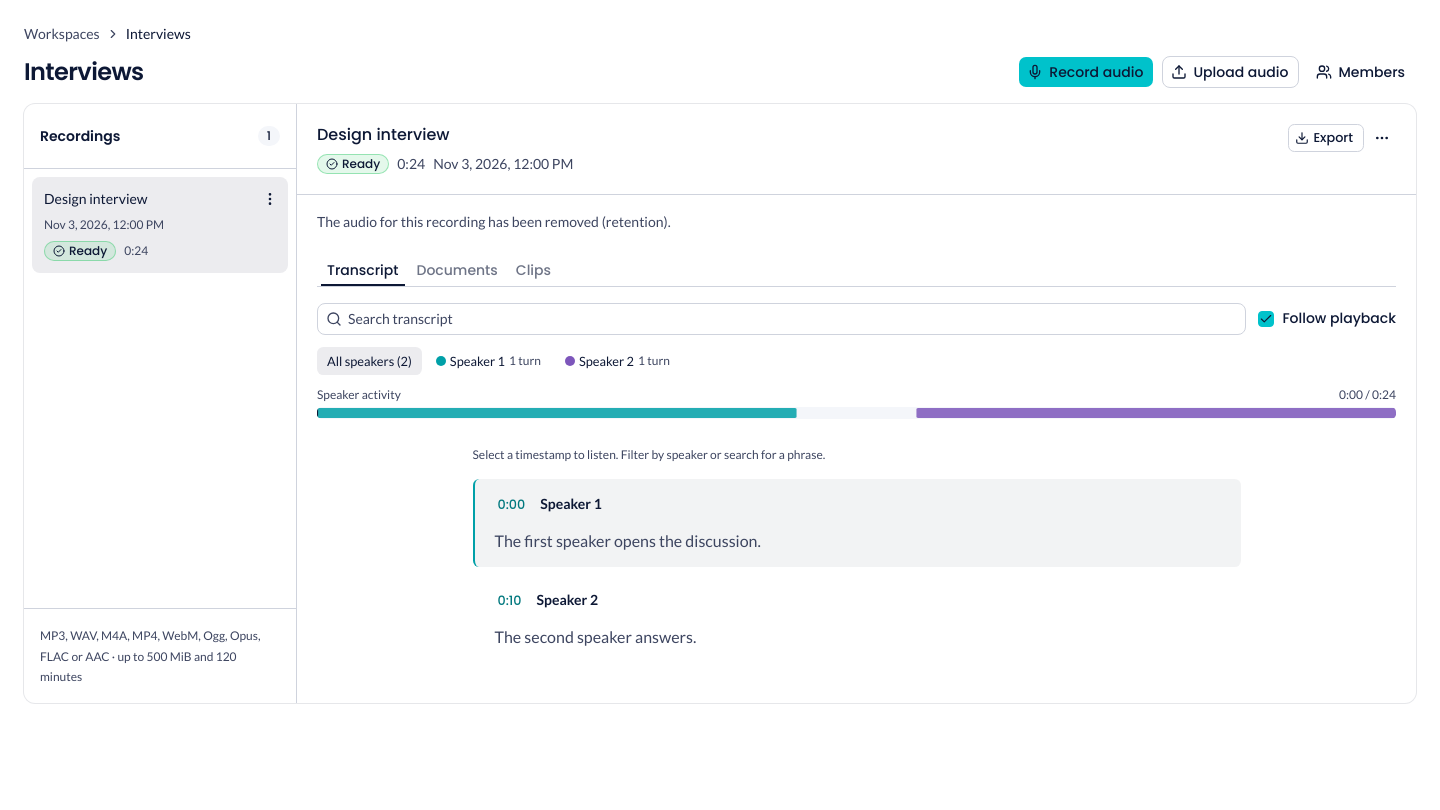
Test: switches review tabs by keyboard while preserving transcript filters
Type "first" into the field labelled "Search transcript". click: (794, 319)
box: 342,303 -> 1245,335
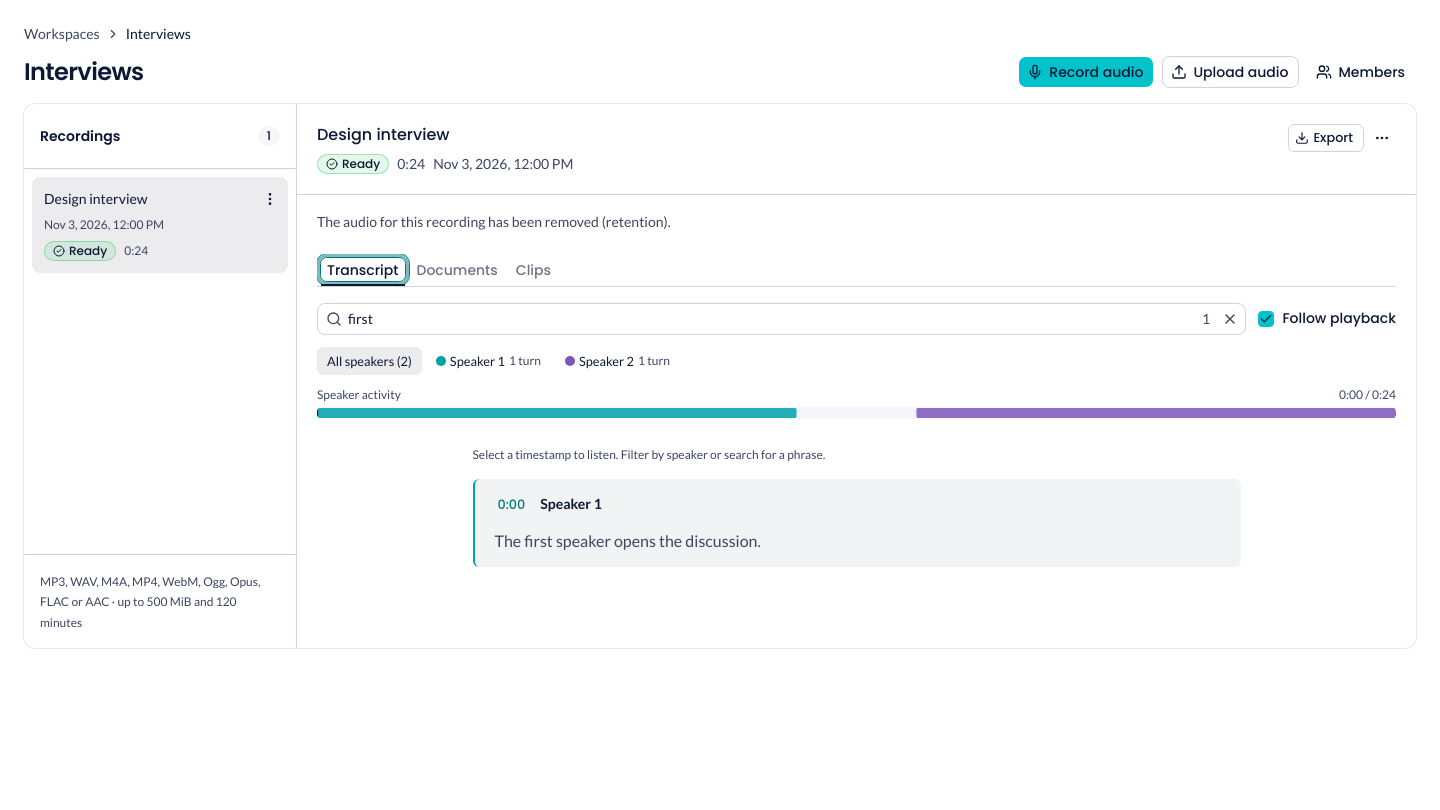
Press Arrowright
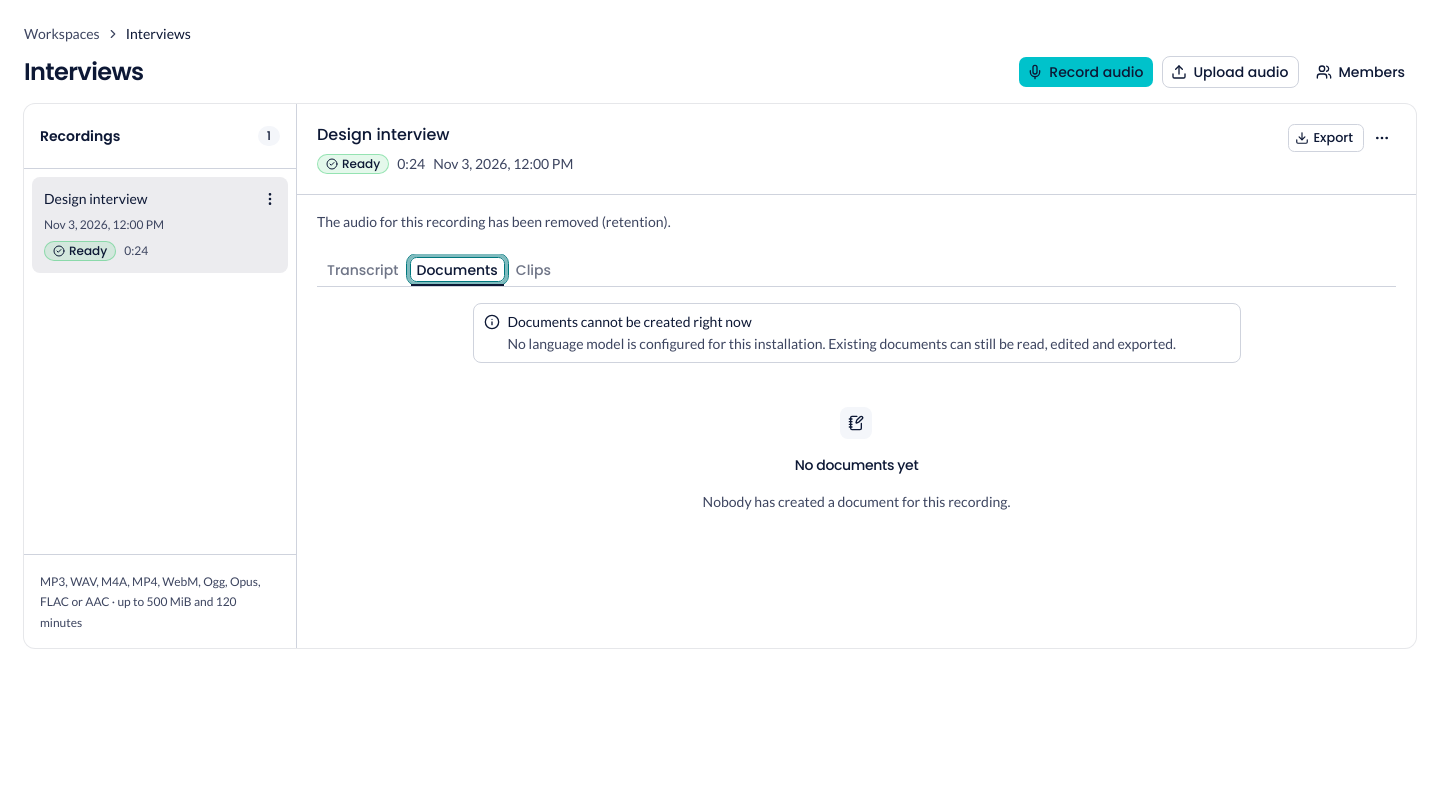
Now the tab "Documents" is selected, box 410,257 -> 505,282
Press Arrowright
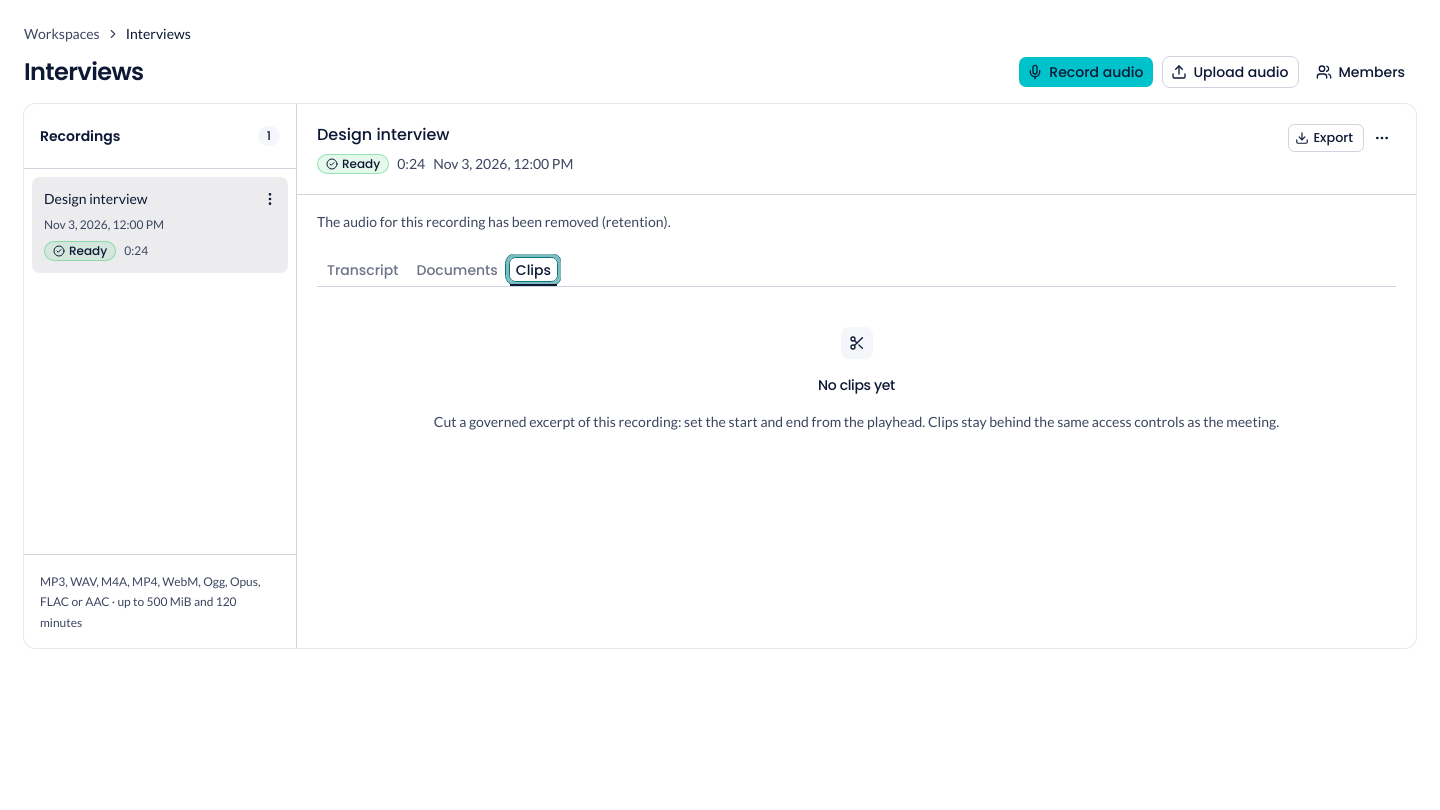
Expected: the text "The first speaker opens the discussion." is not shown
Now the panel "clips" is shown, box 434,327 -> 1279,430
Press Arrowleft Arrowleft
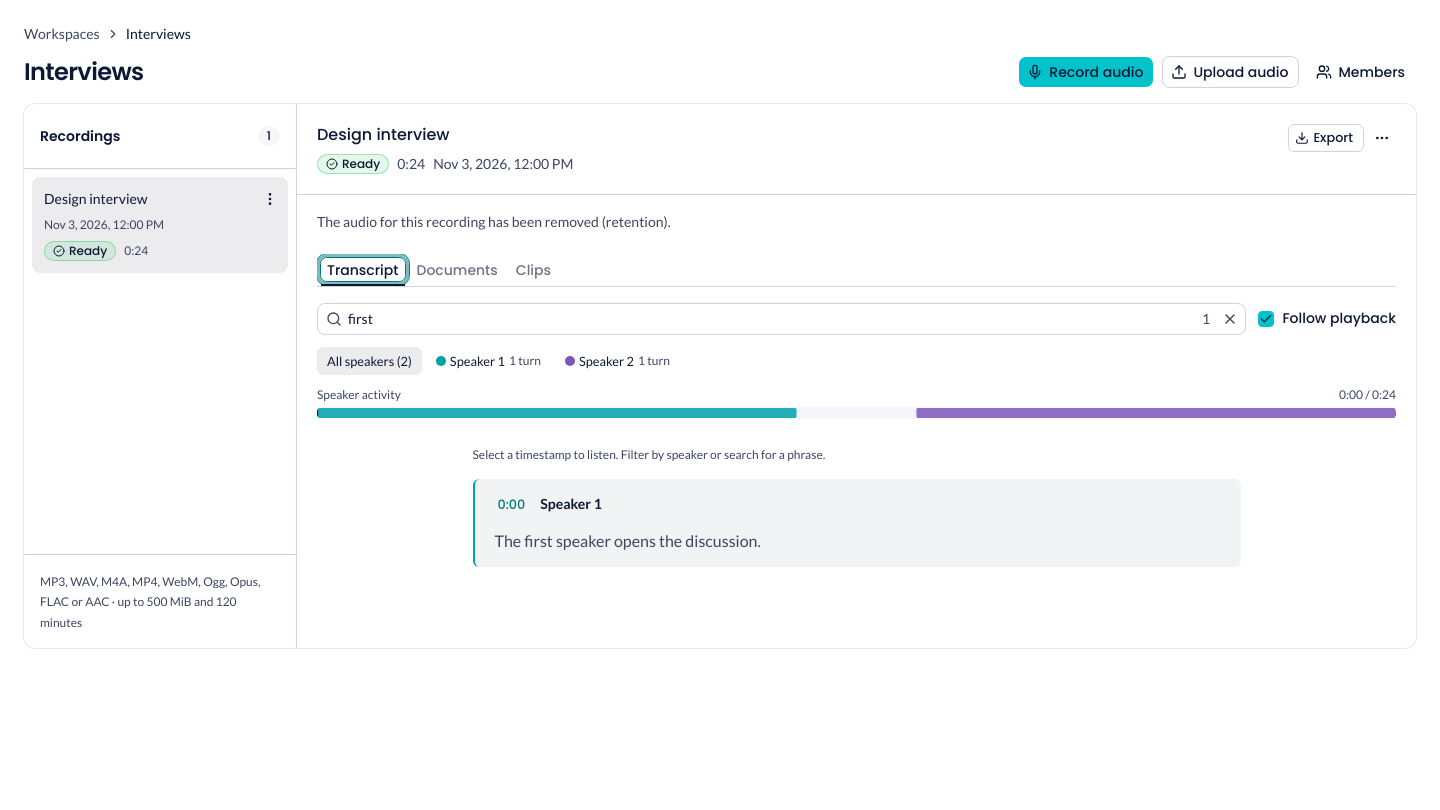
Expected: the text "The second speaker answers." is not shown
Now the field named "Search transcript" holds "first", box 342,303 -> 1202,335
Now the text "The first speaker opens the discussion." is shown, box 494,531 -> 761,550
